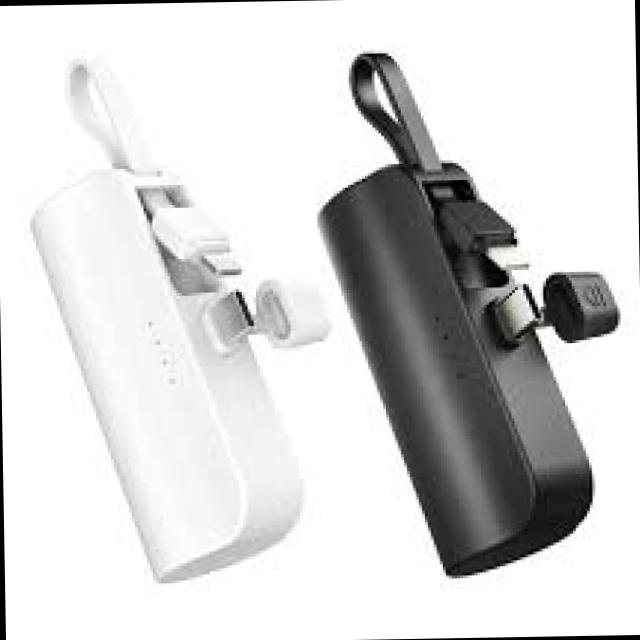portable-charger: (310, 152, 623, 581), (32, 153, 310, 584)
